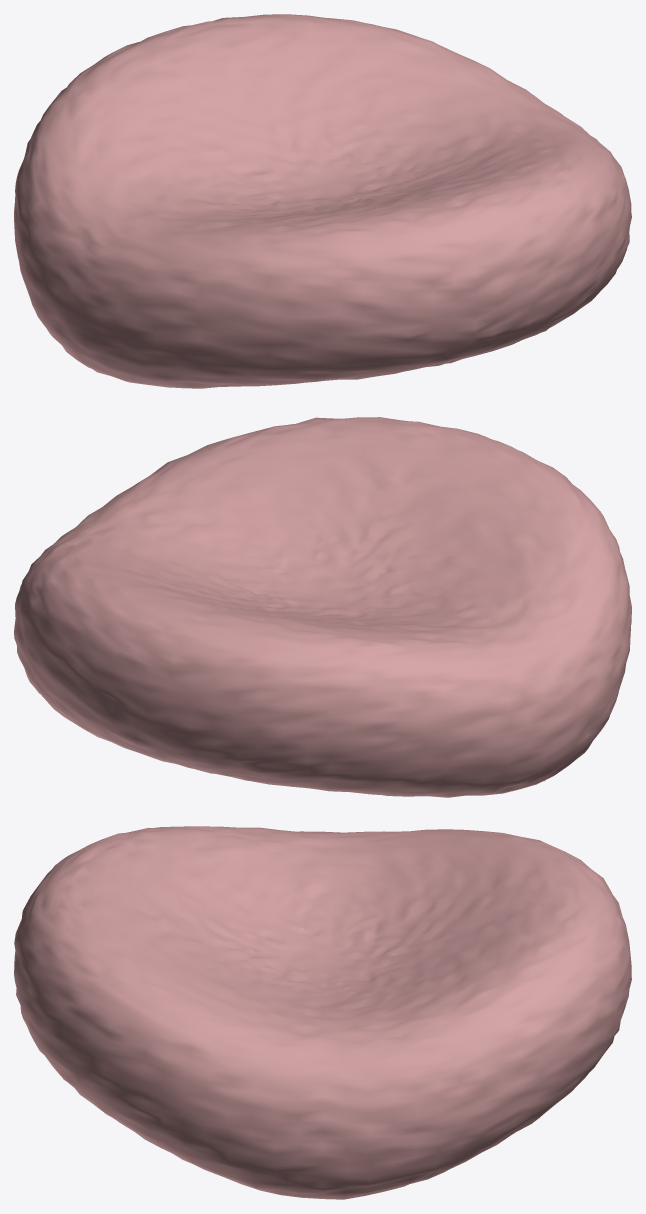
File: erythro.dae
3 views of the same model, one above another, from view 1: azimuth 30°, elevation 25°; view 2: azimuth 150°, elevation 25°; view 3: azimuth 270°, elevation 25° (orthographic).
Parts seen in each view (by area): view 1: Sphere_002; view 2: Sphere_002; view 3: Sphere_002.
Boxes of the visible parts, box(x1,y1,x2,y2) form: Sphere_002: box(14, 14, 631, 388); Sphere_002: box(14, 417, 631, 797); Sphere_002: box(14, 826, 631, 1199).
Size of the model in its own units: 1.87 by 1.87 by 0.6672.
